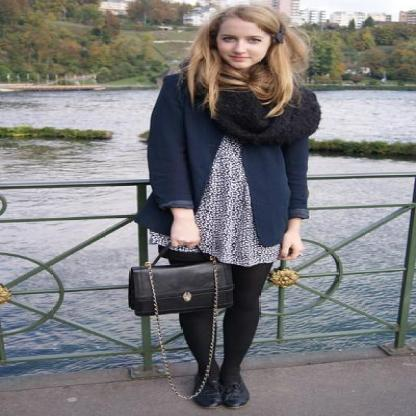bag: (112, 241, 236, 324)
dress: (148, 140, 274, 266)
jacket: (114, 60, 336, 257)
shoe: (192, 381, 249, 407)
